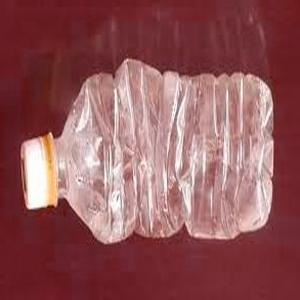Plastic: (15, 56, 275, 252)
